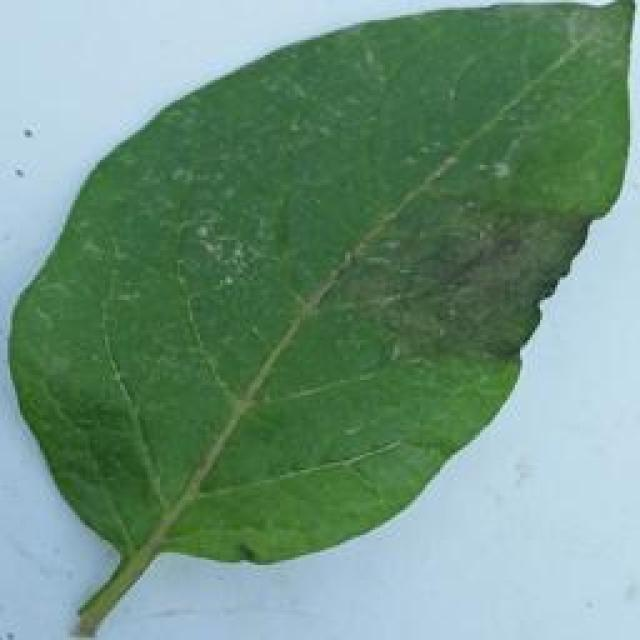Potato_Late_Blight: (14, 5, 626, 630)
